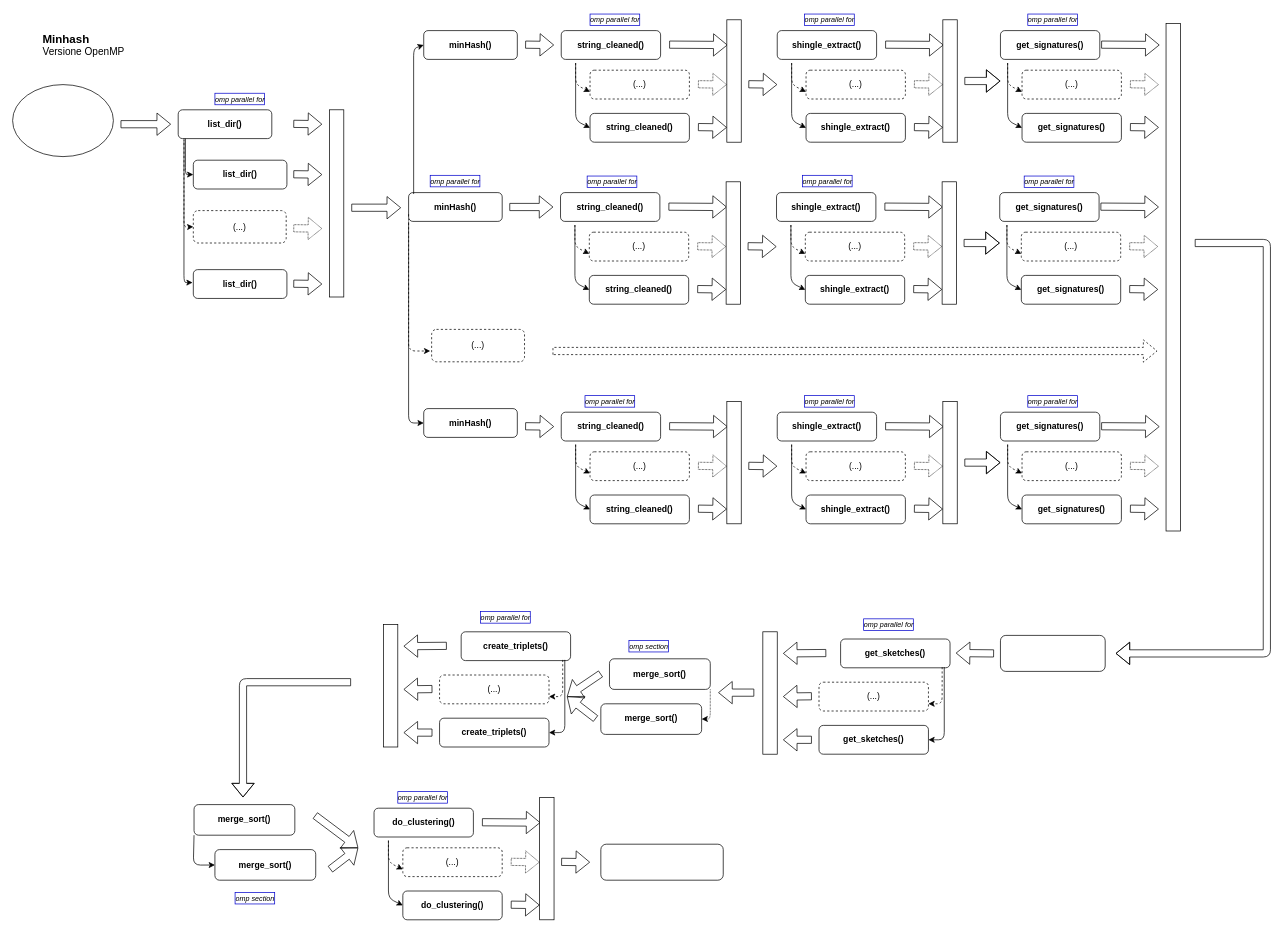
Image size: 1283x932. Some labels were removed from this diagram. Each missing label, with the centre of its shape:
"check_similarity()" goes at point 661,861.
"find_similarities()" goes at point 1052,653.
"main prende in input il path di una directory" goes at point 62,120.
